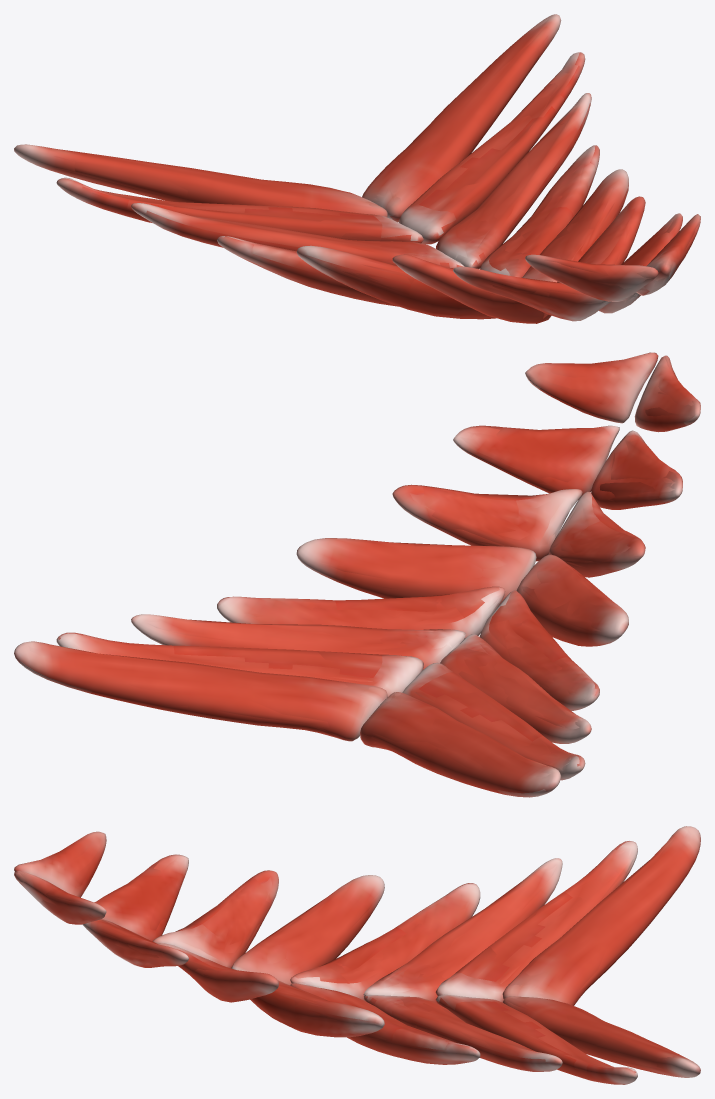
Rendered from Transversus thoracis.fbx.
3 renders of one model, top to bottom at view 1: azimuth 30°, elevation 25°; view 2: azimuth 150°, elevation 25°; view 3: azimuth 270°, elevation 25°, orthographic. The views are drawn at different scales.
Visible parts, largest first — view 1: Transversus thoracis, Transversus thoracis low; view 2: Transversus thoracis, Transversus thoracis low; view 3: Transversus thoracis, Transversus thoracis low.
Part boxes in pixels (left/top/right/bottom): Transversus thoracis: left=14, top=14, right=700, bottom=323; Transversus thoracis low: left=25, top=17, right=699, bottom=318; Transversus thoracis: left=14, top=353, right=700, bottom=797; Transversus thoracis low: left=15, top=352, right=698, bottom=796; Transversus thoracis: left=14, top=826, right=700, bottom=1084; Transversus thoracis low: left=15, top=827, right=698, bottom=1076.
Size of the model in its own units: 40.54 by 12.22 by 48.99.
